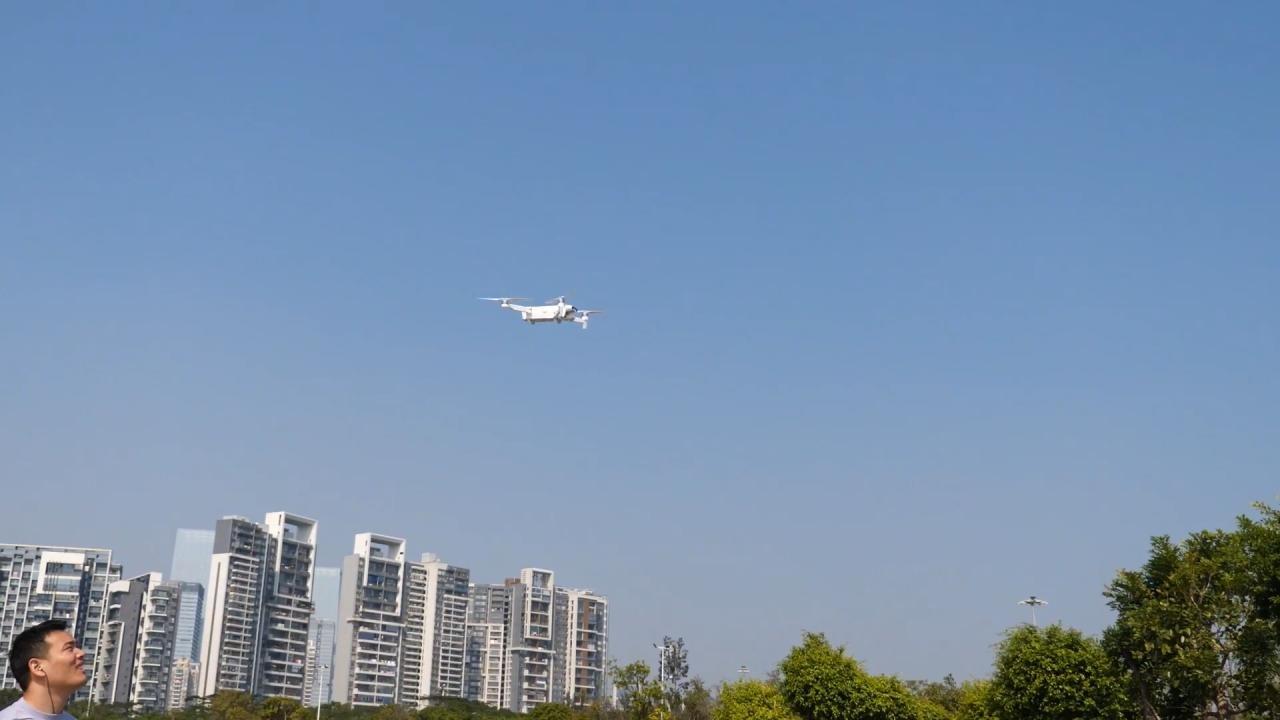Drone: (468, 283, 614, 341)
